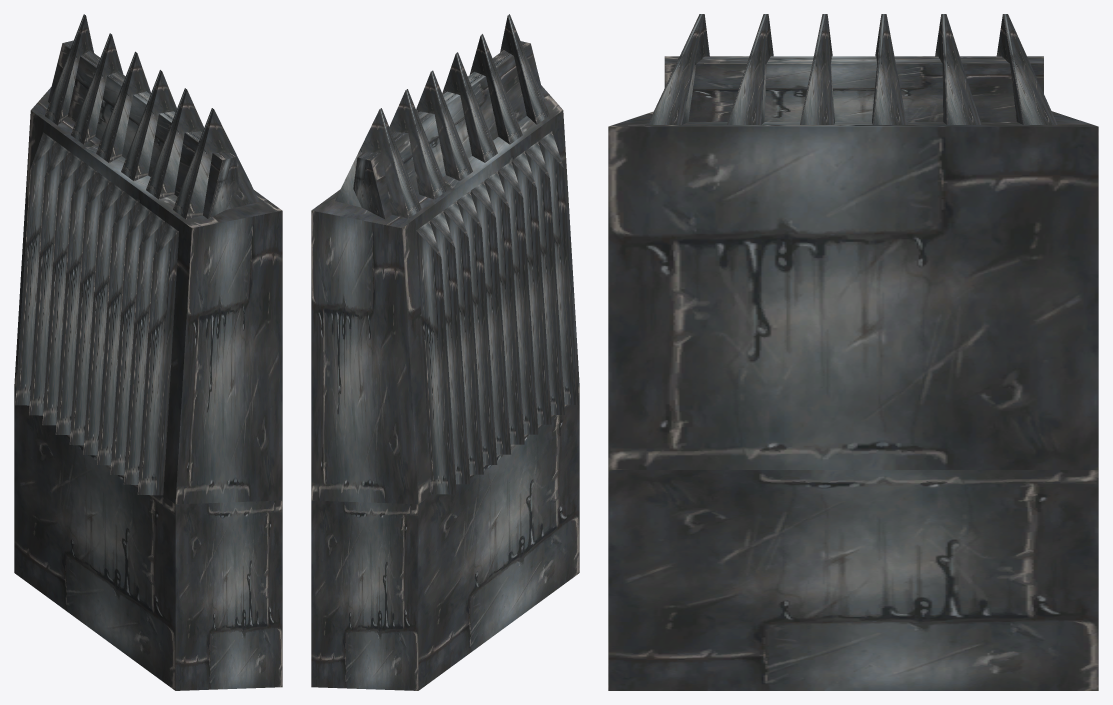
The model's file is Wall.fbx.
3 renders of one model, left to right at view 1: azimuth 30°, elevation 25°; view 2: azimuth 150°, elevation 25°; view 3: azimuth 270°, elevation 25°, orthographic. The views are drawn at different scales.
Parts seen in each view (by area): view 1: icecrown_wall_lrg01; view 2: icecrown_wall_lrg01; view 3: icecrown_wall_lrg01.
Part boxes in pixels (x1,y1,x2,y2): icecrown_wall_lrg01: (14, 14, 282, 690); icecrown_wall_lrg01: (311, 14, 579, 690); icecrown_wall_lrg01: (608, 14, 1098, 690).
Size of the model in its own units: 3388 by 17519 by 11803.
